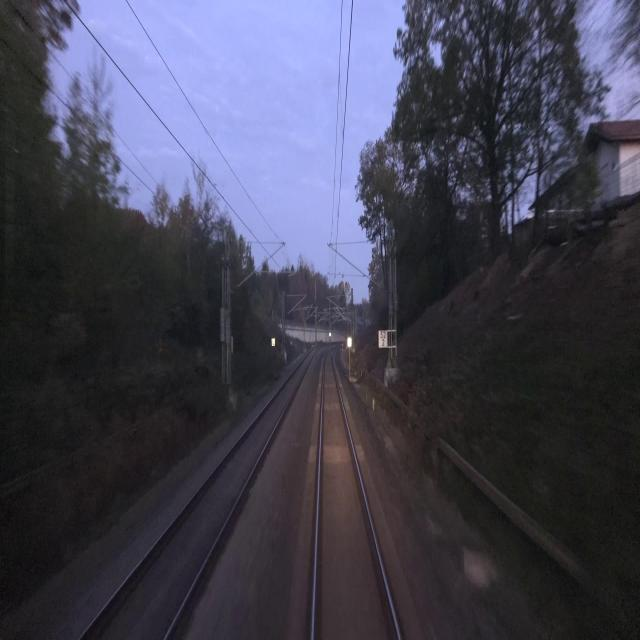rail-track: (83, 354, 311, 639), (315, 353, 396, 639)
